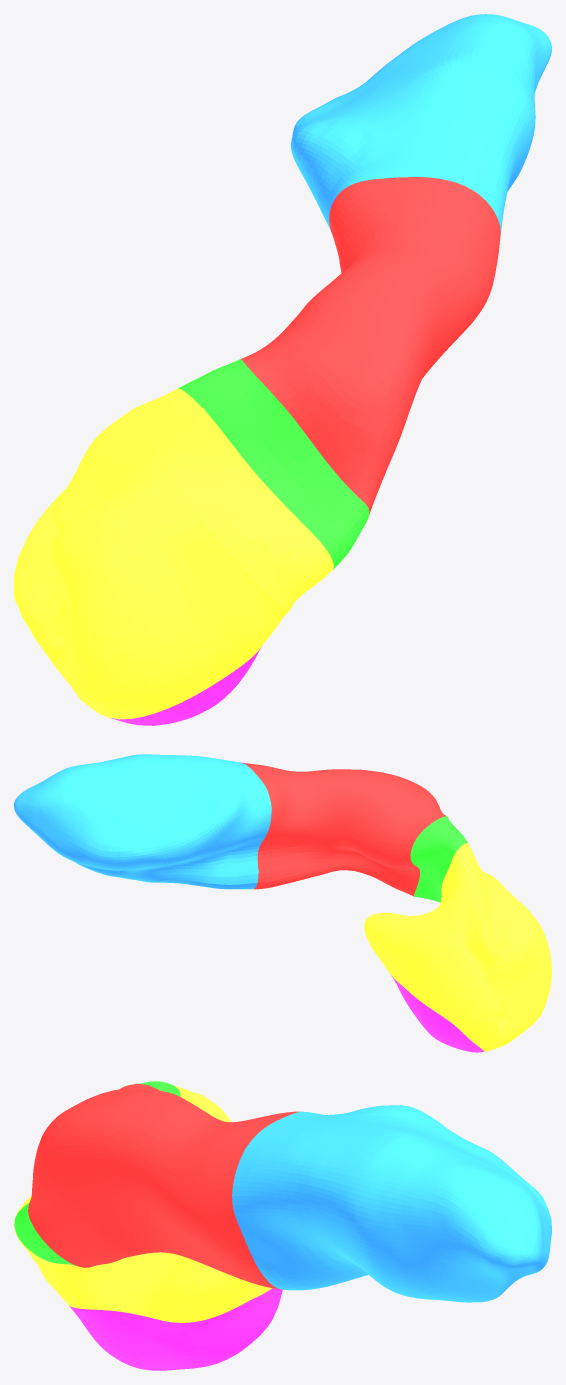
The model's file is pankreas-male-mobil.glb.
3 renders of one model, top to bottom at view 1: azimuth 30°, elevation 25°; view 2: azimuth 150°, elevation 25°; view 3: azimuth 270°, elevation 25°, orthographic. The views are drawn at different scales.
Parts seen in each view (by area): view 1: 0:1:VH_M_head_of_pancreas, 0:0:VH_M_body_of_pancreas, 0:3:VH_M_tail_of_pancreas, 0:2:VH_M_neck_of_pancreas, 0:4:VH_M_uncinate_process_of_the_pancreas; view 2: 0:3:VH_M_tail_of_pancreas, 0:1:VH_M_head_of_pancreas, 0:0:VH_M_body_of_pancreas, 0:2:VH_M_neck_of_pancreas, 0:4:VH_M_uncinate_process_of_the_pancreas; view 3: 0:3:VH_M_tail_of_pancreas, 0:0:VH_M_body_of_pancreas, 0:1:VH_M_head_of_pancreas, 0:4:VH_M_uncinate_process_of_the_pancreas, 0:2:VH_M_neck_of_pancreas.
Boxes of the visible parts, x1,y1,x2,y2 form: 0:1:VH_M_head_of_pancreas: [14, 388, 333, 719]; 0:0:VH_M_body_of_pancreas: [241, 177, 500, 515]; 0:3:VH_M_tail_of_pancreas: [290, 14, 551, 235]; 0:2:VH_M_neck_of_pancreas: [178, 359, 369, 569]; 0:4:VH_M_uncinate_process_of_the_pancreas: [110, 646, 261, 725]; 0:3:VH_M_tail_of_pancreas: [14, 754, 271, 889]; 0:1:VH_M_head_of_pancreas: [364, 843, 551, 1051]; 0:0:VH_M_body_of_pancreas: [242, 762, 446, 896]; 0:2:VH_M_neck_of_pancreas: [410, 816, 467, 902]; 0:4:VH_M_uncinate_process_of_the_pancreas: [391, 975, 485, 1052]; 0:3:VH_M_tail_of_pancreas: [232, 1105, 551, 1302]; 0:0:VH_M_body_of_pancreas: [28, 1083, 299, 1289]; 0:1:VH_M_head_of_pancreas: [14, 1086, 271, 1322]; 0:4:VH_M_uncinate_process_of_the_pancreas: [70, 1288, 282, 1370]; 0:2:VH_M_neck_of_pancreas: [14, 1081, 180, 1267].
Bounding box in the file's own units: 0.1114 × 0.072 × 0.0836.
